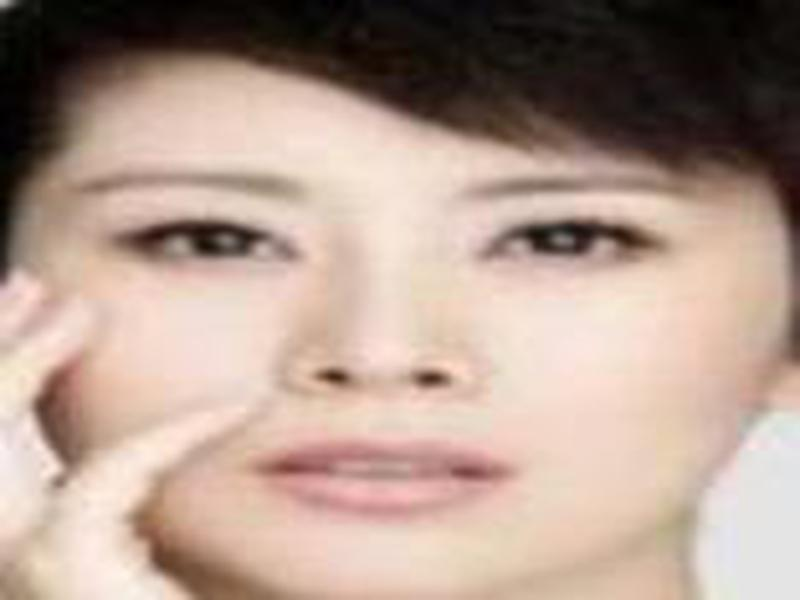without_mask: (23, 61, 773, 597)
